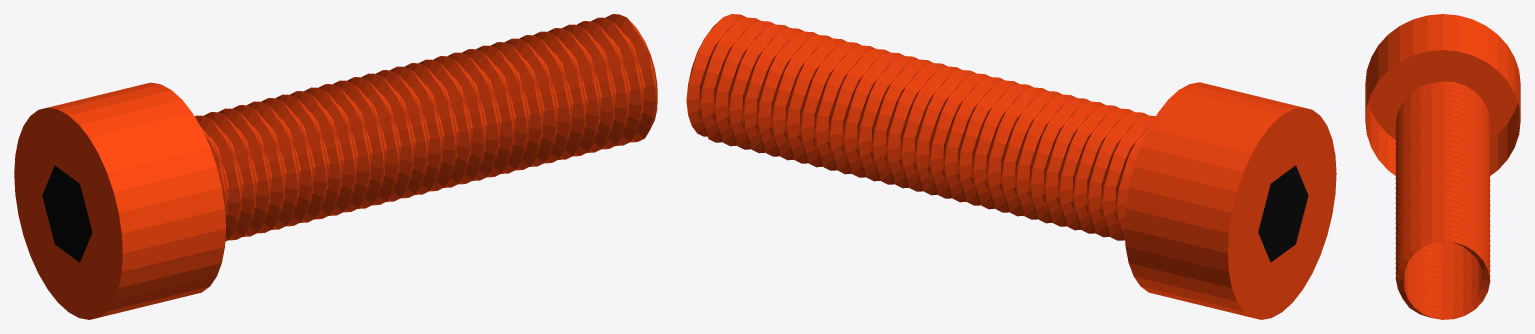
The model's file is socket_bolt_20mm.obj.
3 renders of one model, left to right at view 1: azimuth 30°, elevation 25°; view 2: azimuth 150°, elevation 25°; view 3: azimuth 270°, elevation 25°, orthographic. The views are drawn at different scales.
Size of the model in its own units: 0.0982 by 0.0328 by 0.0328.
